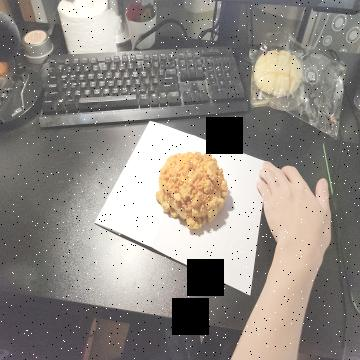soboru_bread: (156, 150, 229, 234)
